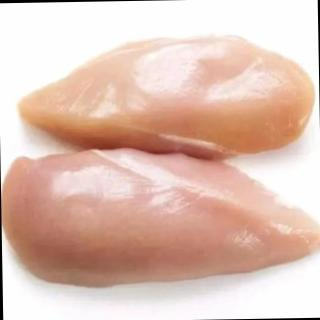Ayam: (1, 146, 320, 289), (18, 36, 317, 159)
